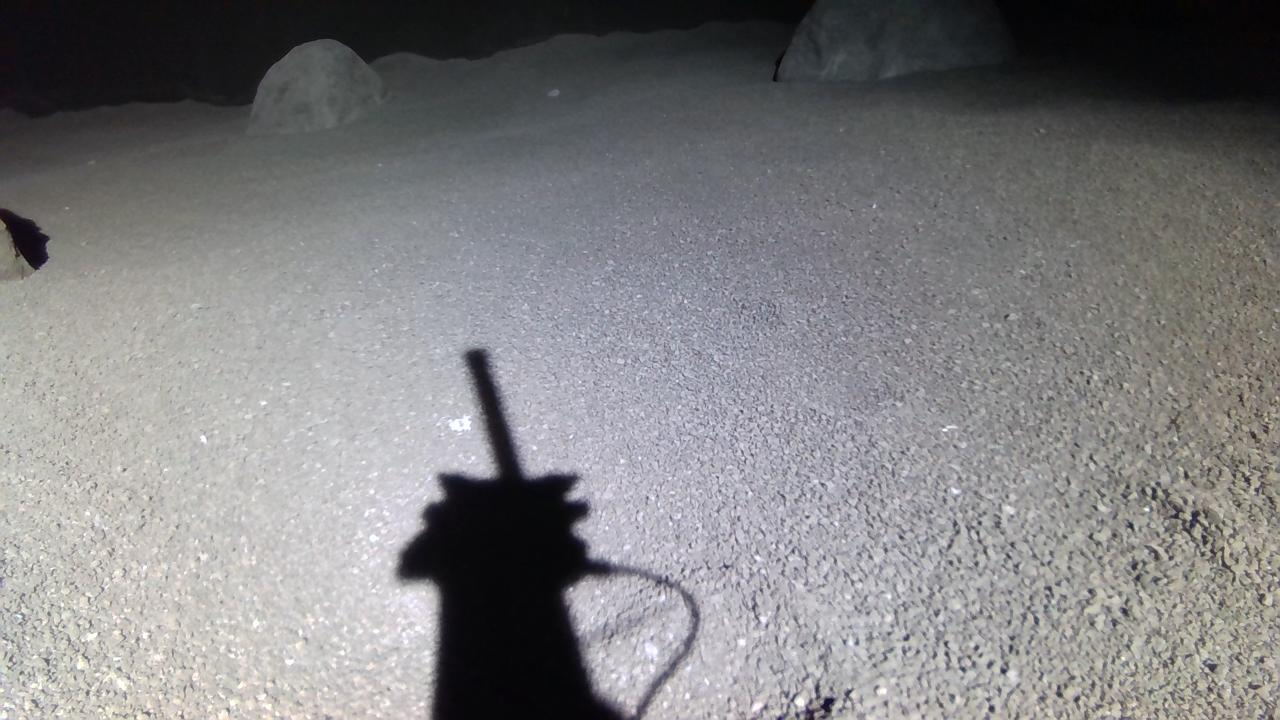rock: (780, 0, 1017, 79), (248, 38, 386, 133)
